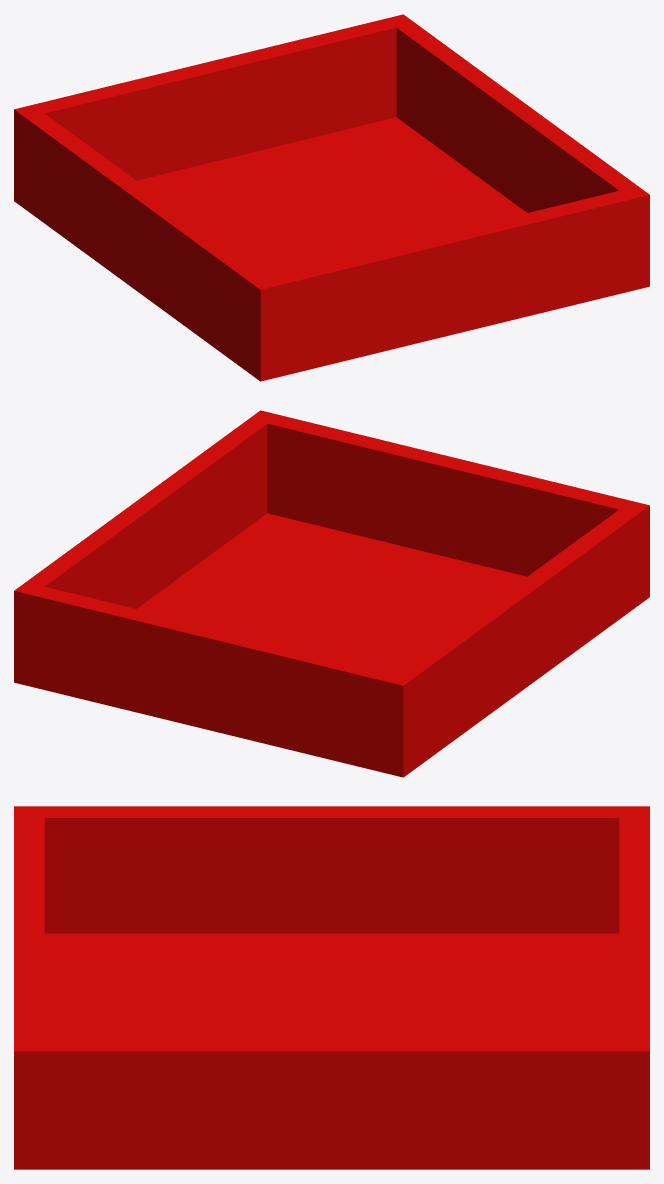
Rendered from Cenario02_salabranca.glb.
The picture shows the model from 3 angles, top to bottom: view 1: azimuth 30°, elevation 25°; view 2: azimuth 150°, elevation 25°; view 3: azimuth 270°, elevation 25°; orthographic projection. The views are drawn at different scales.
Visible parts, largest first — view 1: Cube; view 2: Cube; view 3: Cube.
Part boxes in pixels (left/top/right/bottom): Cube: left=14, top=14, right=649, bottom=381; Cube: left=14, top=410, right=649, bottom=777; Cube: left=14, top=806, right=649, bottom=1169.
Size of the model in its own units: 203 by 45.71 by 223.
